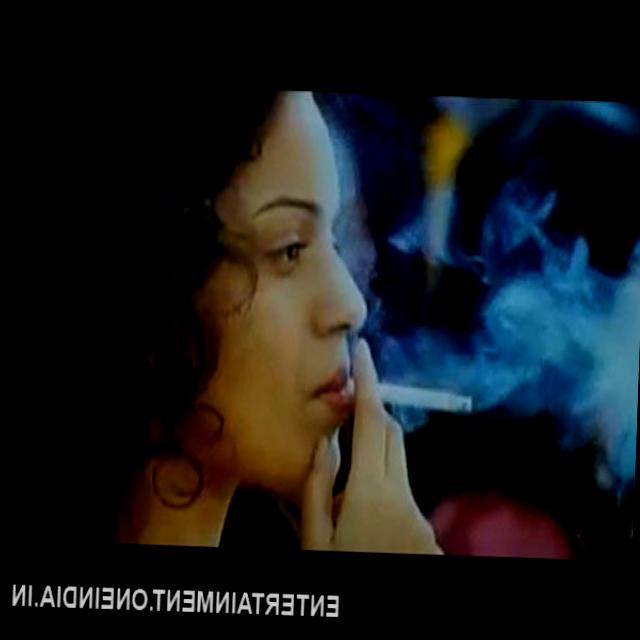smoke: (320, 361, 501, 430)
